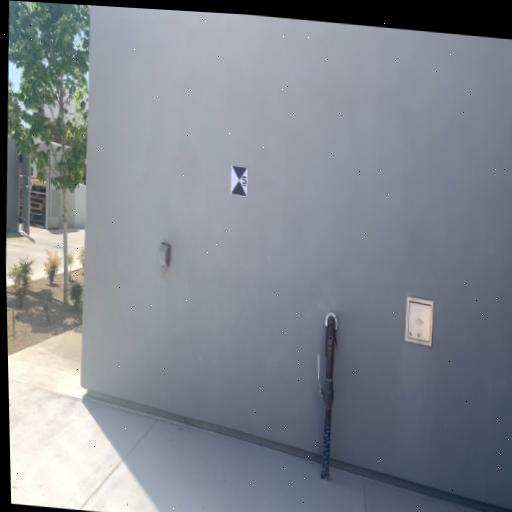target5: (229, 162, 249, 197)
